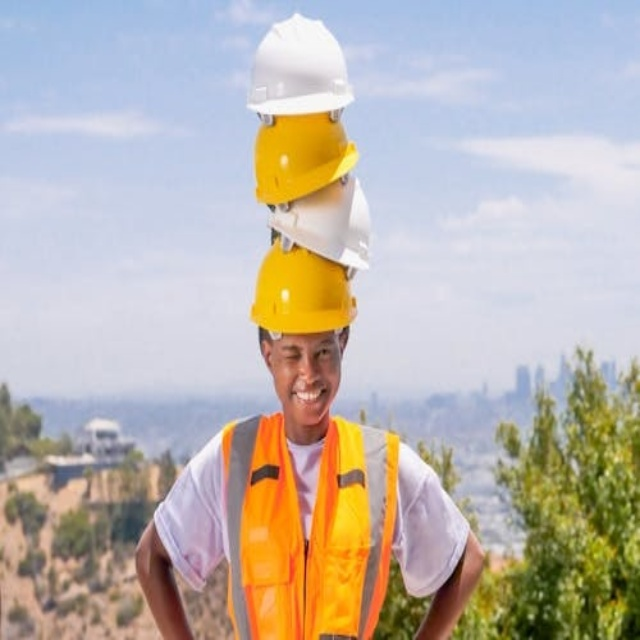Sin_gafas: (275, 341, 339, 372)
Sin_mascara: (285, 381, 334, 418)
